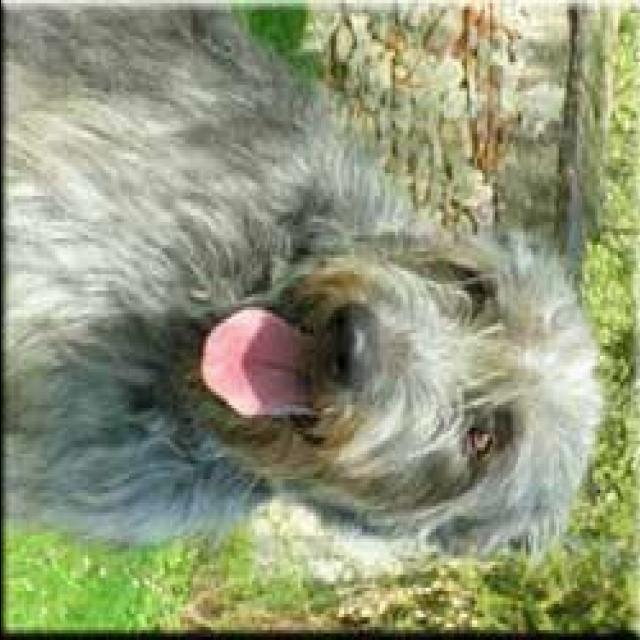irish_wolfhound: (2, 4, 606, 558)
